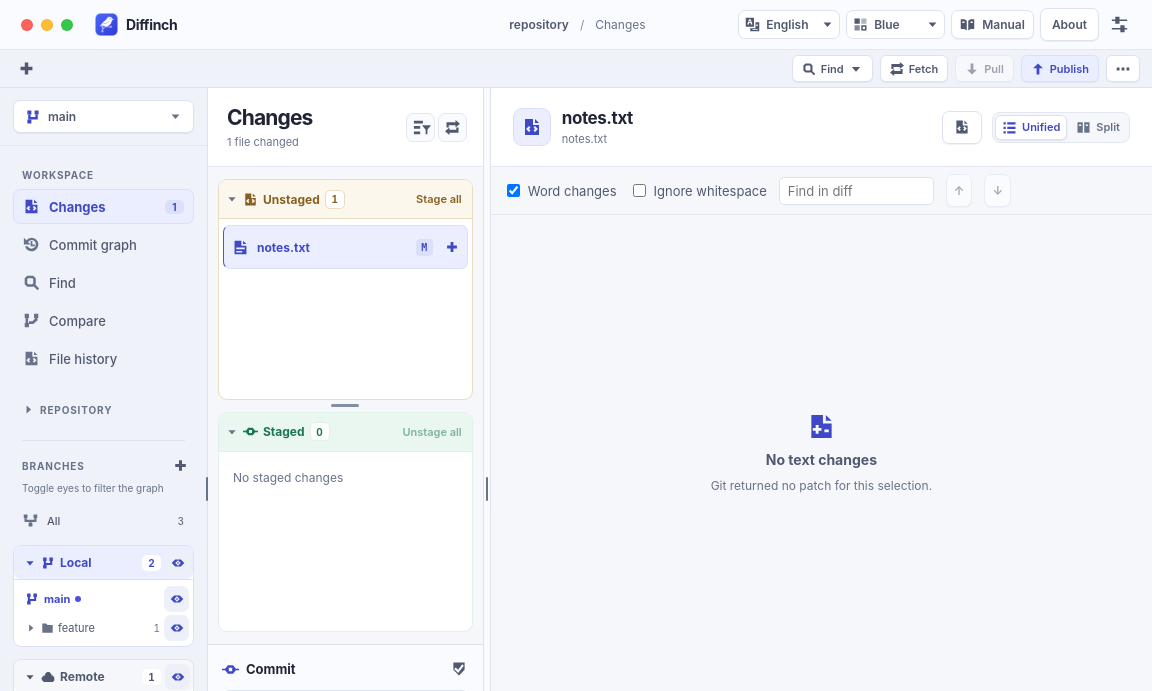
Test: keeps the reviewed branch when confirming Cherry-pick… after a refresh
The image size is (1152, 691).
Click the button "Commit graph" at (104, 244), box [13, 227, 194, 262]
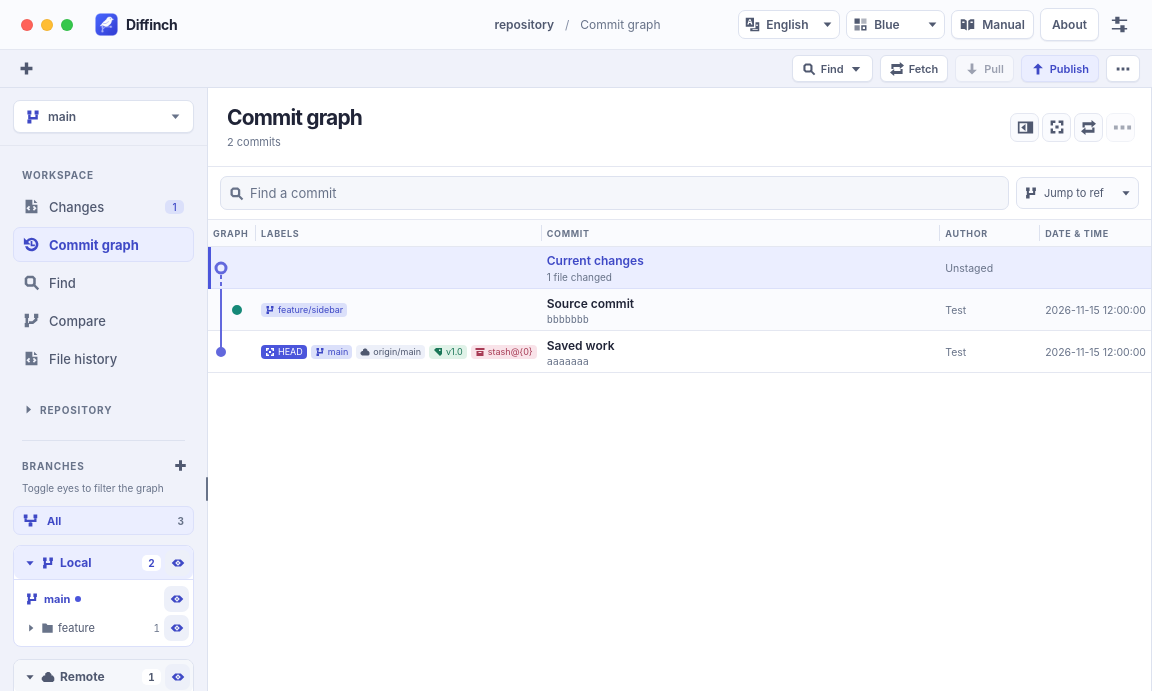
Click the button with aria-label "Source commit," at (229, 310), box [208, 289, 1151, 331]
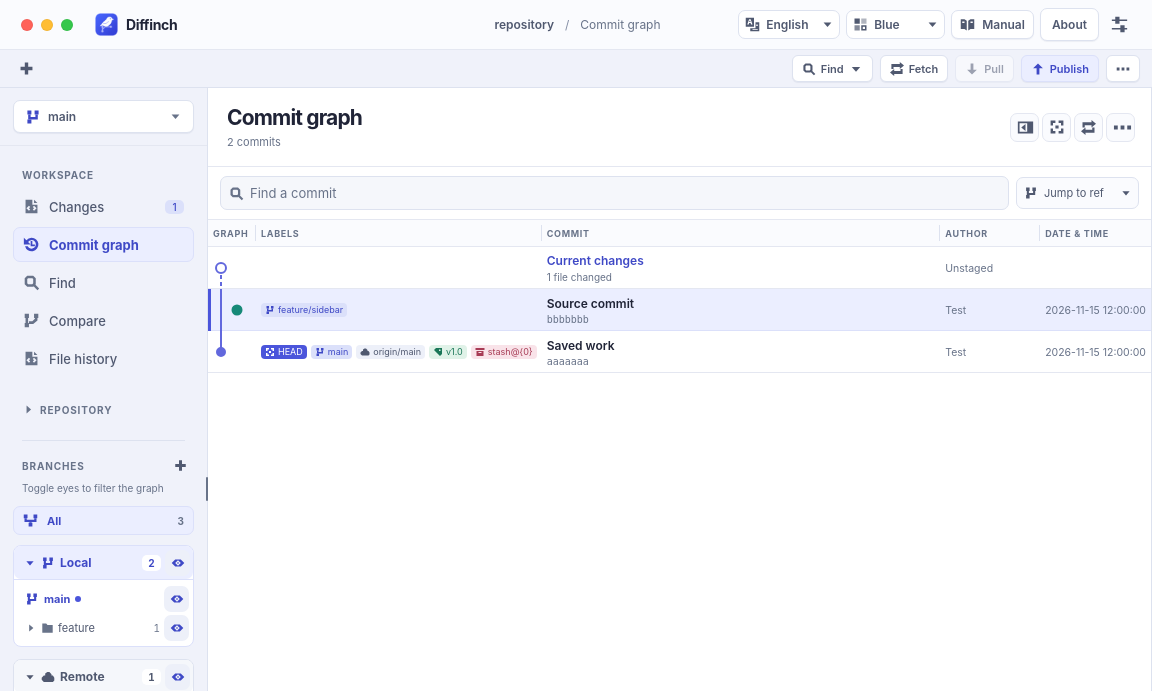
Click the button named "Commit actions" at (1120, 127), box [1106, 112, 1135, 142]
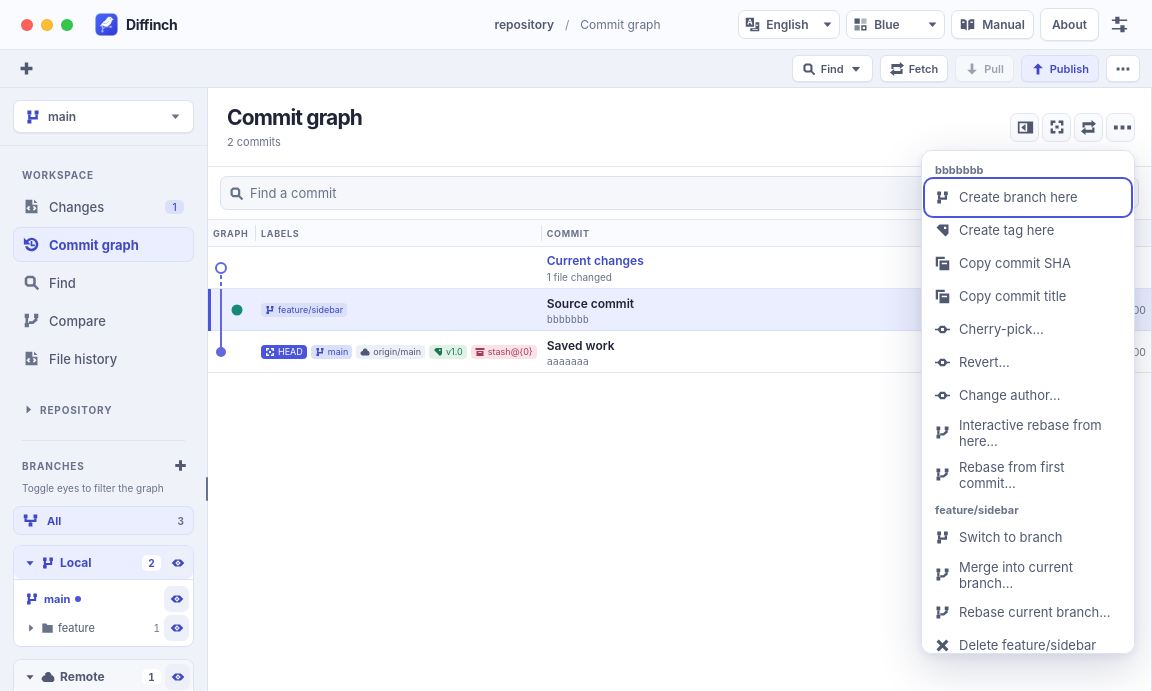
Click the button "Cherry-pick…" at (1028, 329), box [927, 312, 1129, 346]
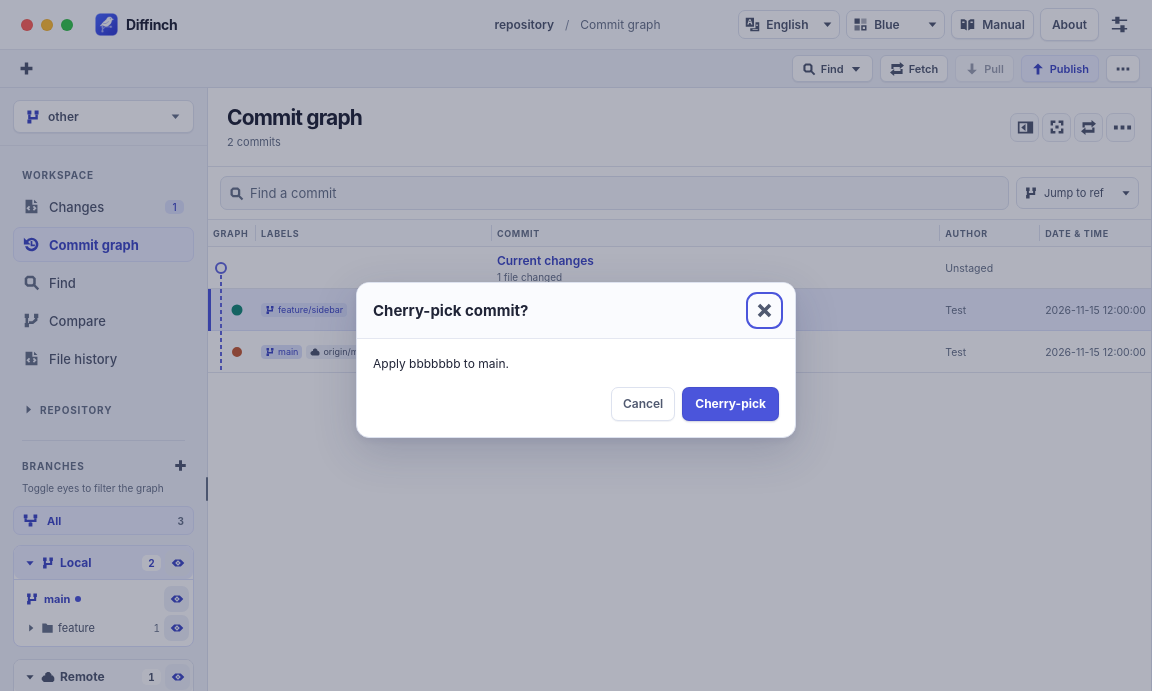
Click the button "Cherry-pick" at (731, 404), box [682, 387, 779, 421]
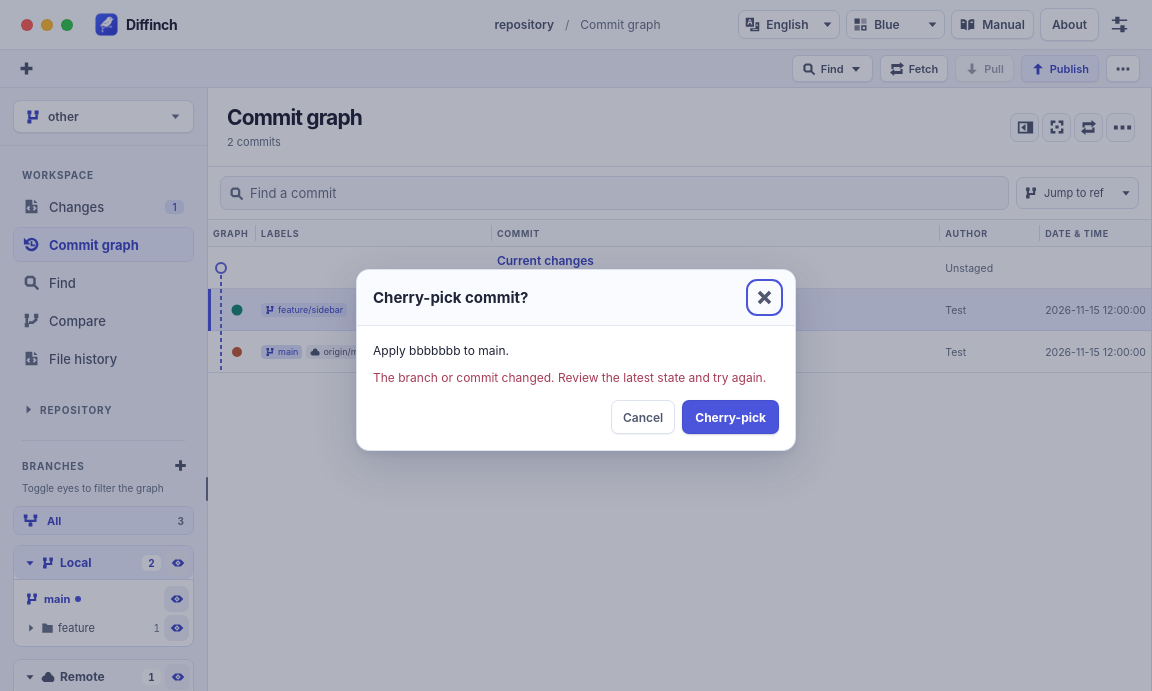
expect the message shows "branch or commit changed": met, box [373, 370, 766, 385]
